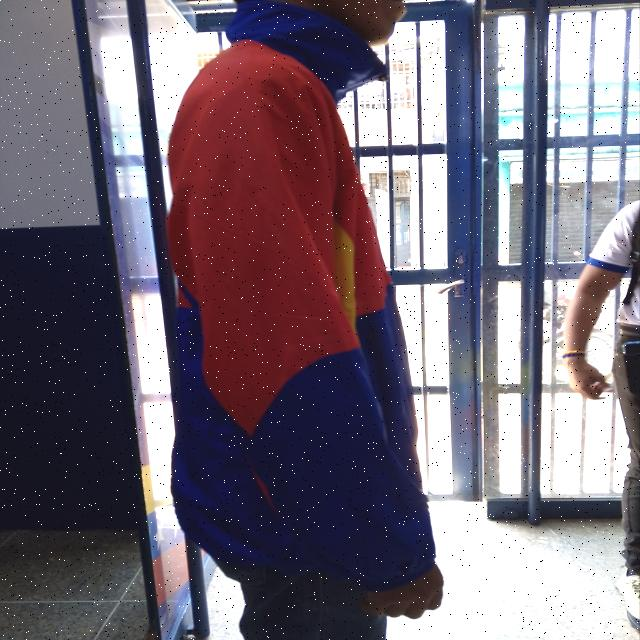chaqueta_unefa: (164, 1, 438, 588)
